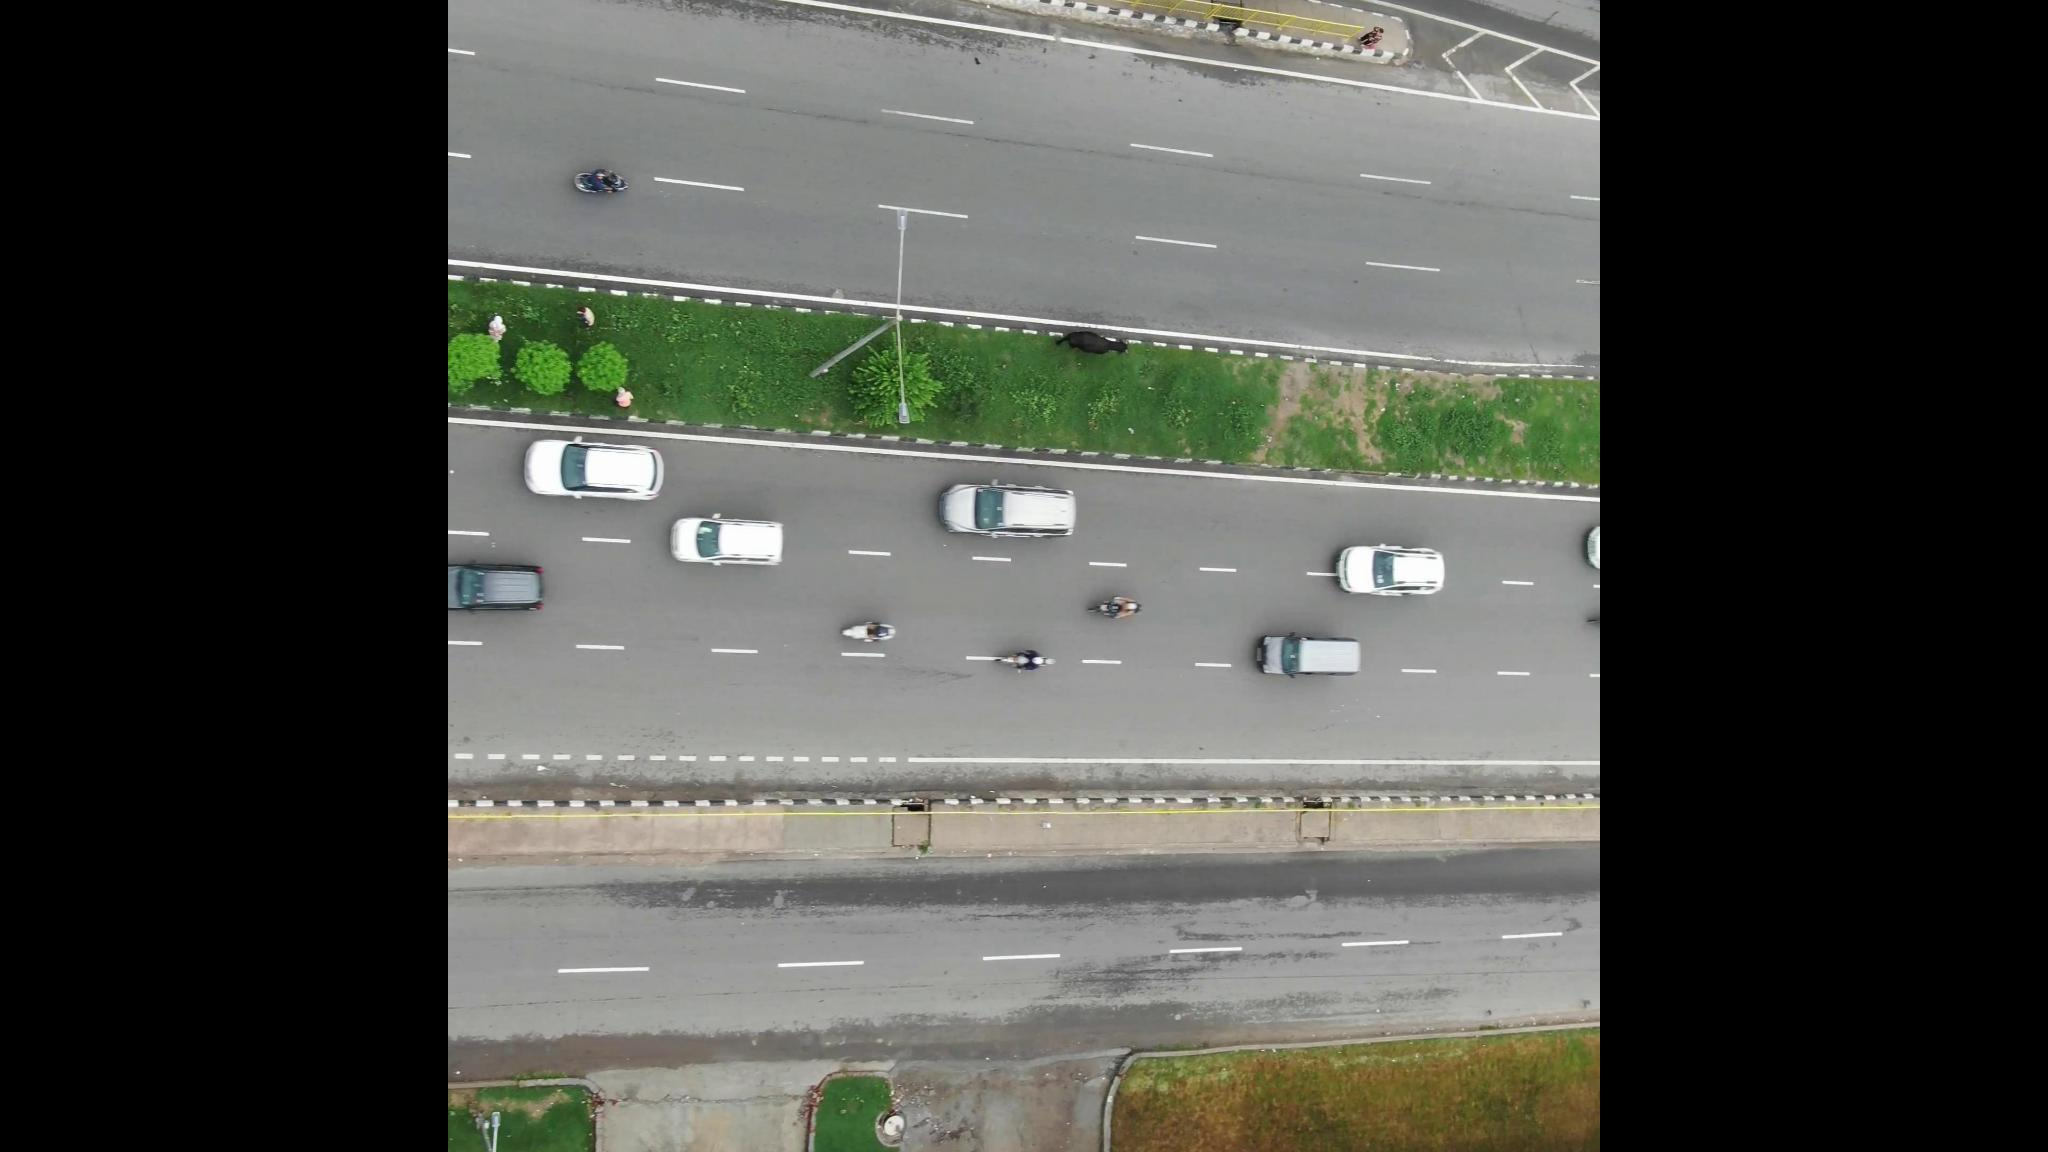Ravelling: (1056, 890, 1404, 1001)
